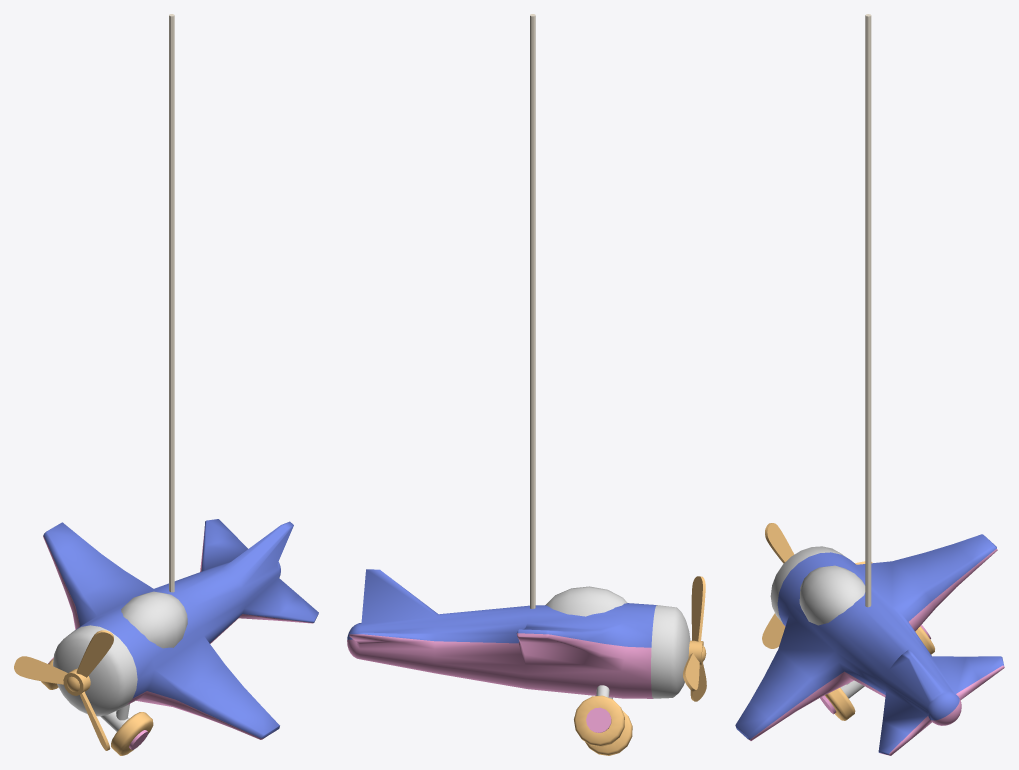
The model's file is Aircraft_Large_01.FBX.
3 views of the same model, side by side, from view 1: azimuth 30°, elevation 25°; view 2: azimuth 150°, elevation 25°; view 3: azimuth 270°, elevation 25° (orthographic). The views are drawn at different scales.
Parts seen in each view (by area): view 1: Aircraft_Large_01; view 2: Aircraft_Large_01; view 3: Aircraft_Large_01.
Part boxes in pixels (left/top/right/bottom): Aircraft_Large_01: left=14, top=14, right=318, bottom=755; Aircraft_Large_01: left=347, top=14, right=706, bottom=755; Aircraft_Large_01: left=735, top=14, right=1004, bottom=755.
Bounding box in the file's own units: 9.21 × 20 × 6.66.
